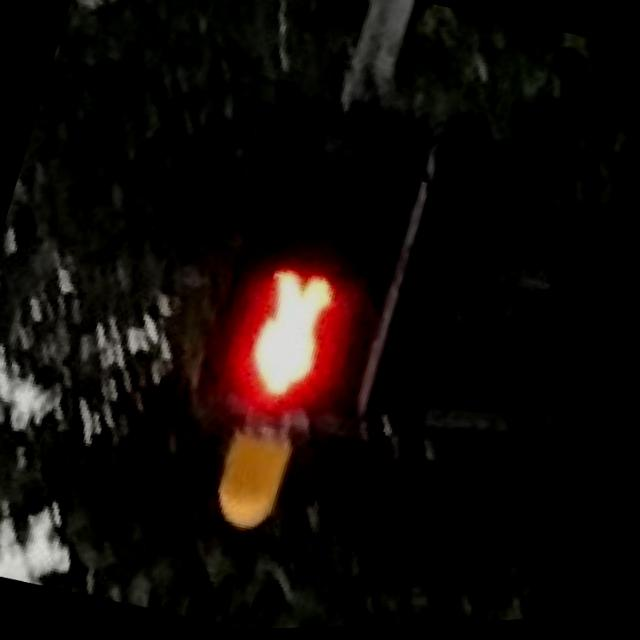red_light: (203, 255, 388, 446)
